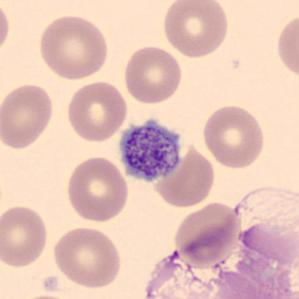Lymphocyte: (115, 113, 186, 186)
Platelets: (115, 115, 188, 186)
RBC: (227, 181, 299, 288), (36, 12, 110, 82), (50, 224, 124, 290), (171, 199, 242, 266), (151, 140, 218, 210), (200, 102, 267, 171), (64, 154, 130, 224), (64, 79, 130, 143), (160, 0, 230, 59), (0, 81, 56, 152), (122, 43, 184, 105), (0, 202, 50, 270), (274, 10, 298, 82), (0, 0, 12, 58), (14, 292, 78, 299)
